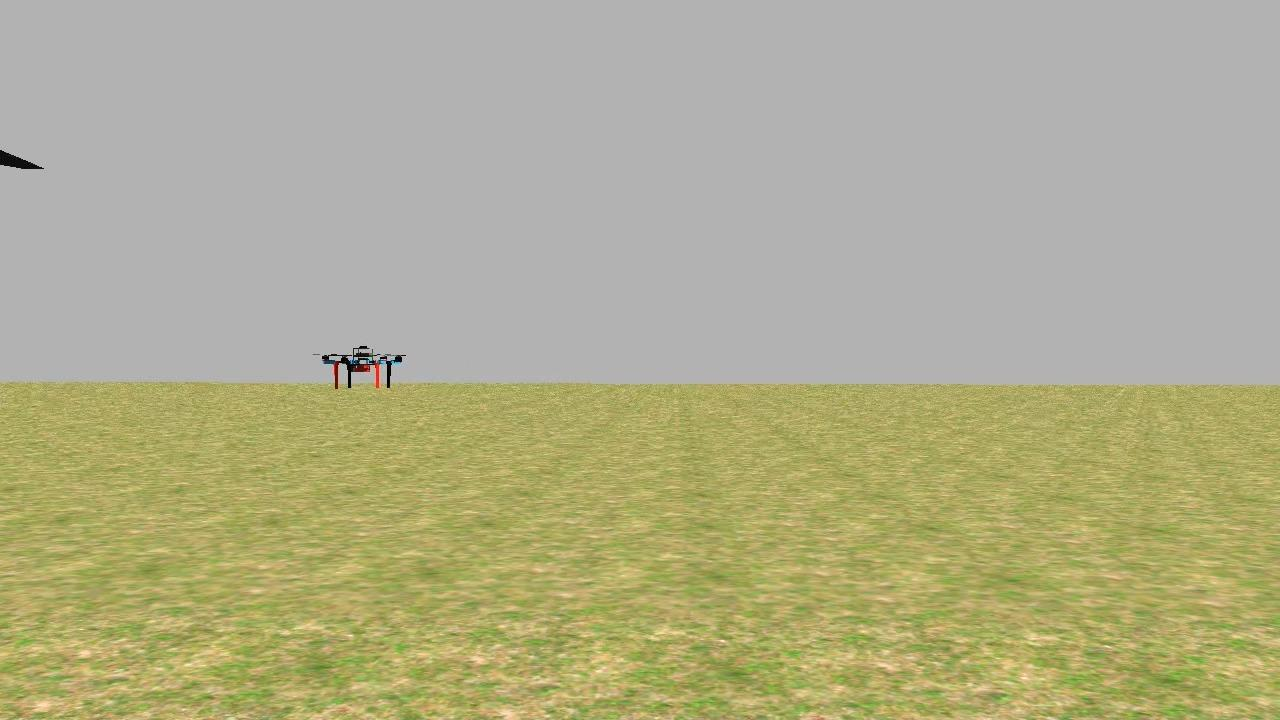UAV: (322, 342, 409, 390)
